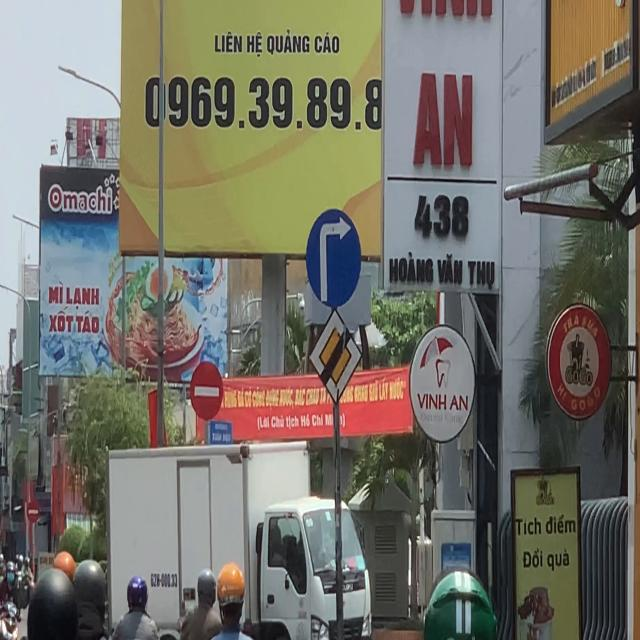Cam nguoc chieu: (190, 361, 223, 421)
Re phai: (306, 208, 362, 308)
